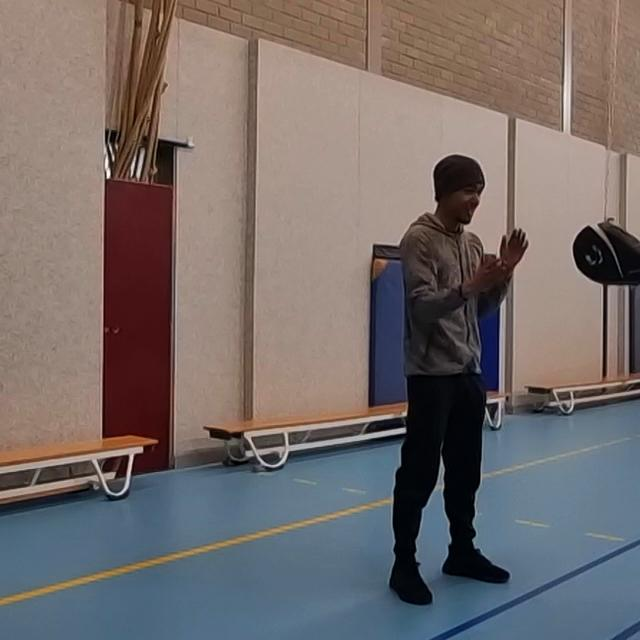paddle: (568, 217, 640, 293)
